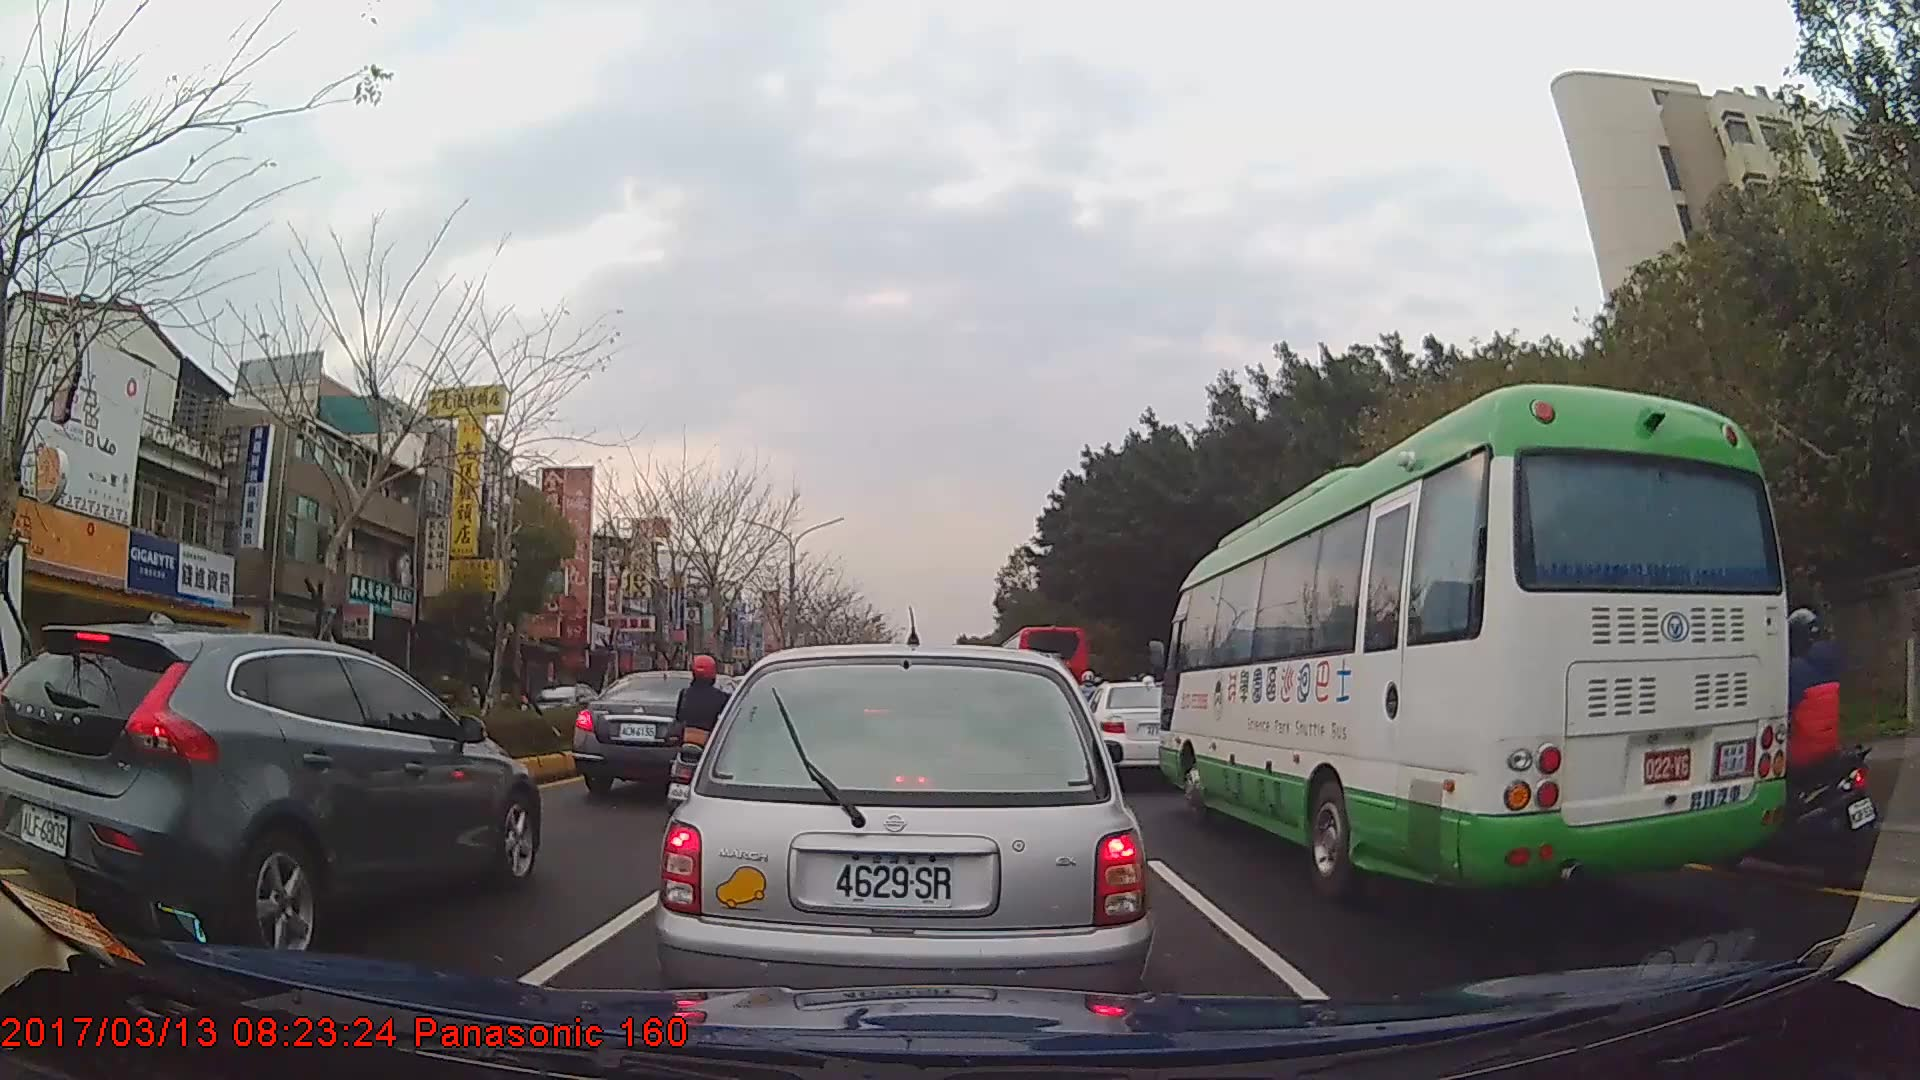rider: (1720, 606, 1873, 875), (672, 653, 745, 827)
vehicle: (1155, 380, 1783, 902), (651, 643, 1153, 1036), (2, 621, 542, 963), (114, 627, 349, 816), (572, 670, 753, 798), (1076, 681, 1198, 788), (992, 622, 1089, 727), (0, 528, 28, 877), (525, 684, 596, 730)
